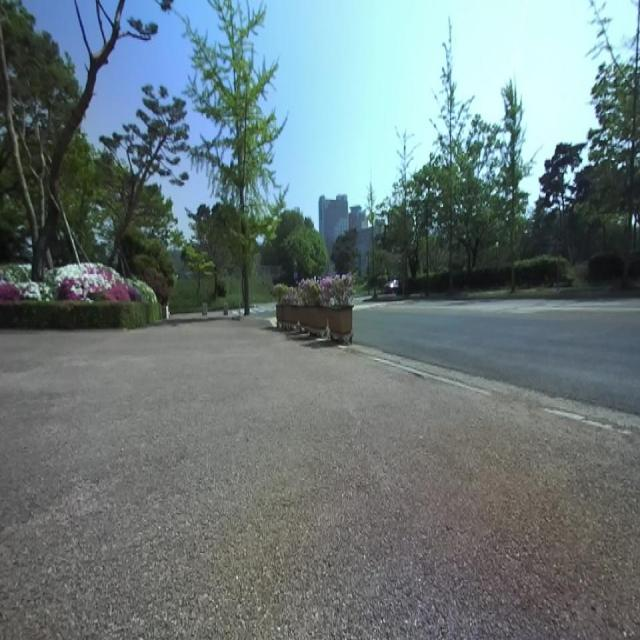sidewalk: (0, 321, 640, 638)
